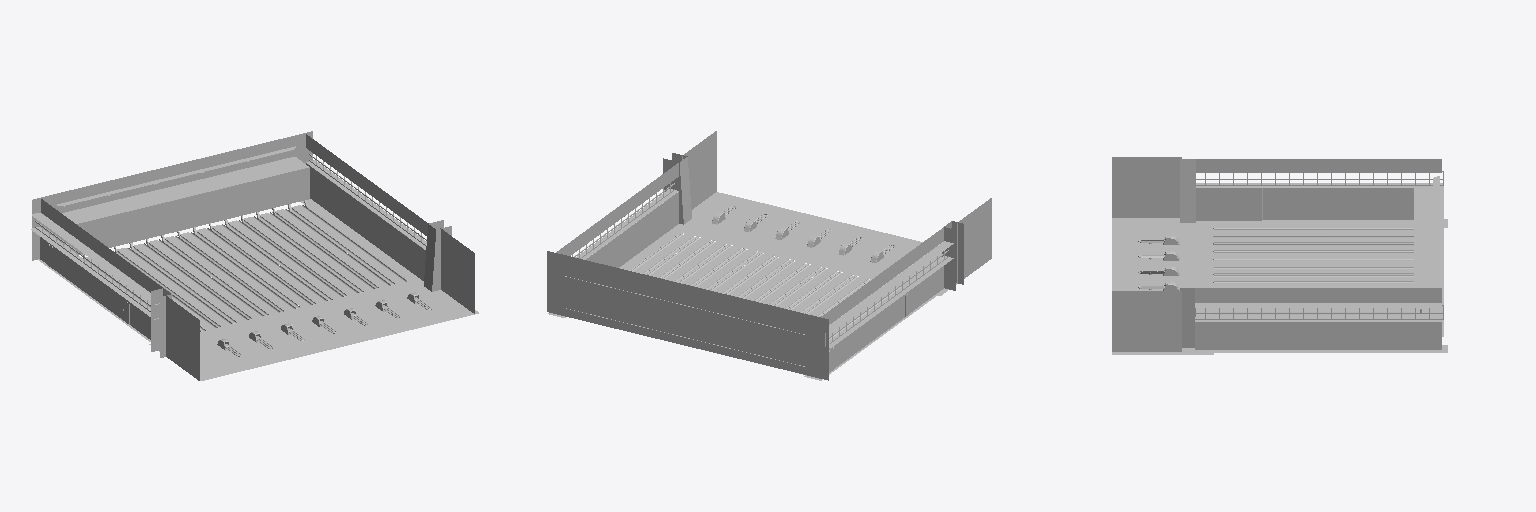
The model's file is alley_no_roof_no_bottom1.obj.
3 views of the same model, side by side, from view 1: azimuth 30°, elevation 25°; view 2: azimuth 150°, elevation 25°; view 3: azimuth 270°, elevation 25° (orthographic).
Visible parts, largest first — view 1: Venue01.lwo.002; view 2: Venue01.lwo.002; view 3: Venue01.lwo.002.
Boxes of the visible parts, <box> form: Venue01.lwo.002: <box>31,131,478,380</box>; Venue01.lwo.002: <box>547,131,991,380</box>; Venue01.lwo.002: <box>1112,157,1447,354</box>.
Size of the model in its own units: 13.79 by 2.83 by 13.68.